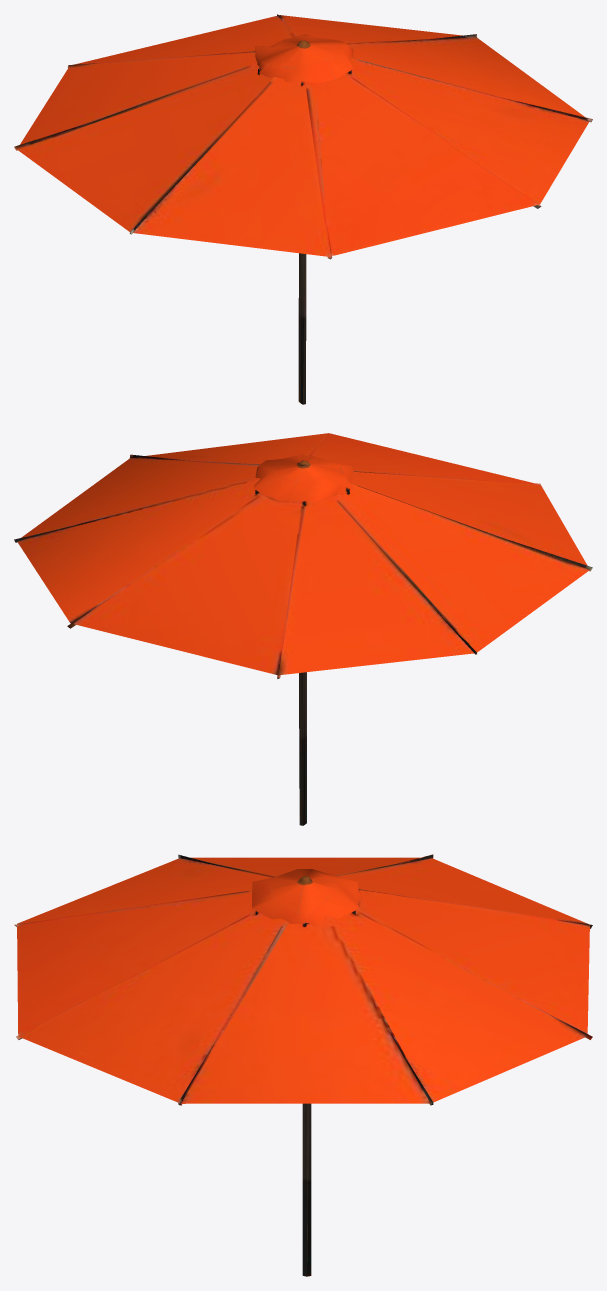
Rendered from patio_umbrella.glb.
3 views of the same model, one above another, from view 1: azimuth 30°, elevation 25°; view 2: azimuth 150°, elevation 25°; view 3: azimuth 270°, elevation 25° (orthographic). The views are drawn at different scales.
Parts seen in each view (by area): view 1: patio_umbrella_lod0; view 2: patio_umbrella_lod0; view 3: patio_umbrella_lod0.
Boxes of the visible parts, x1,y1,x2,y2 form: patio_umbrella_lod0: (14,14,592,404); patio_umbrella_lod0: (14,433,592,825); patio_umbrella_lod0: (14,854,592,1276).
Size of what is drawn, in the model's own units: 3.34 by 2.5 by 3.3.
1 material, 1 textured.
